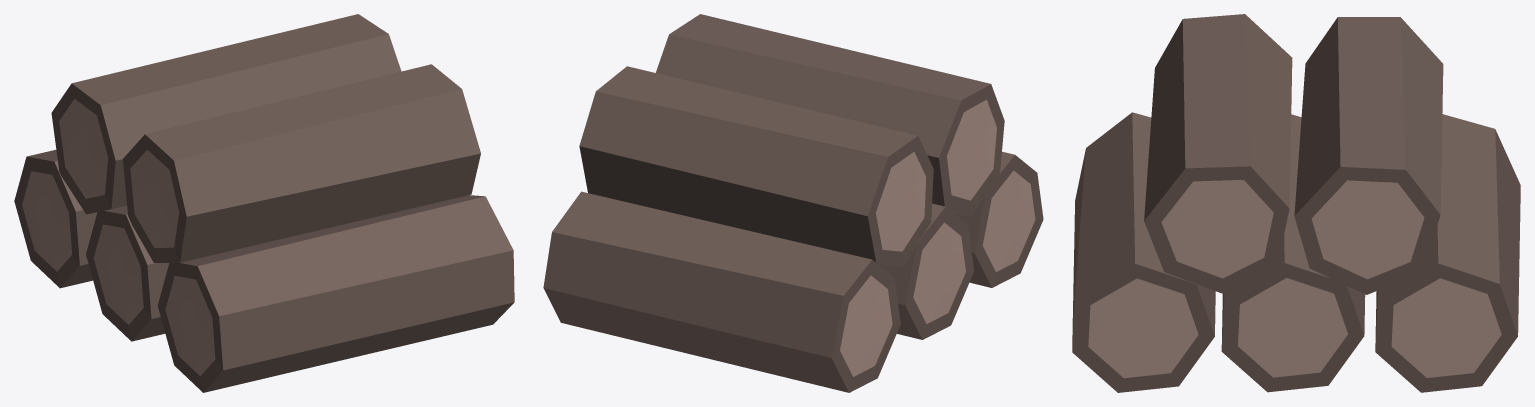
The model's file is logs.fbx.
3 renders of one model, left to right at view 1: azimuth 30°, elevation 25°; view 2: azimuth 150°, elevation 25°; view 3: azimuth 270°, elevation 25°, orthographic. The views are drawn at different scales.
Parts seen in each view (by area): view 1: wood:Wood2; view 2: wood:Wood2; view 3: wood:Wood2.
Part boxes in pixels (x1,y1,x2,y2): wood:Wood2: (14, 14, 514, 392); wood:Wood2: (543, 14, 1043, 392); wood:Wood2: (1072, 14, 1520, 392).
Bounding box in the file's own units: 1.25 × 0.8844 × 1.56.
